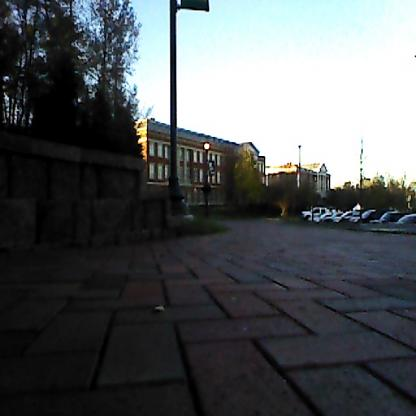Edge: (0, 215, 228, 268)
Sidewalk: (0, 221, 416, 416)
